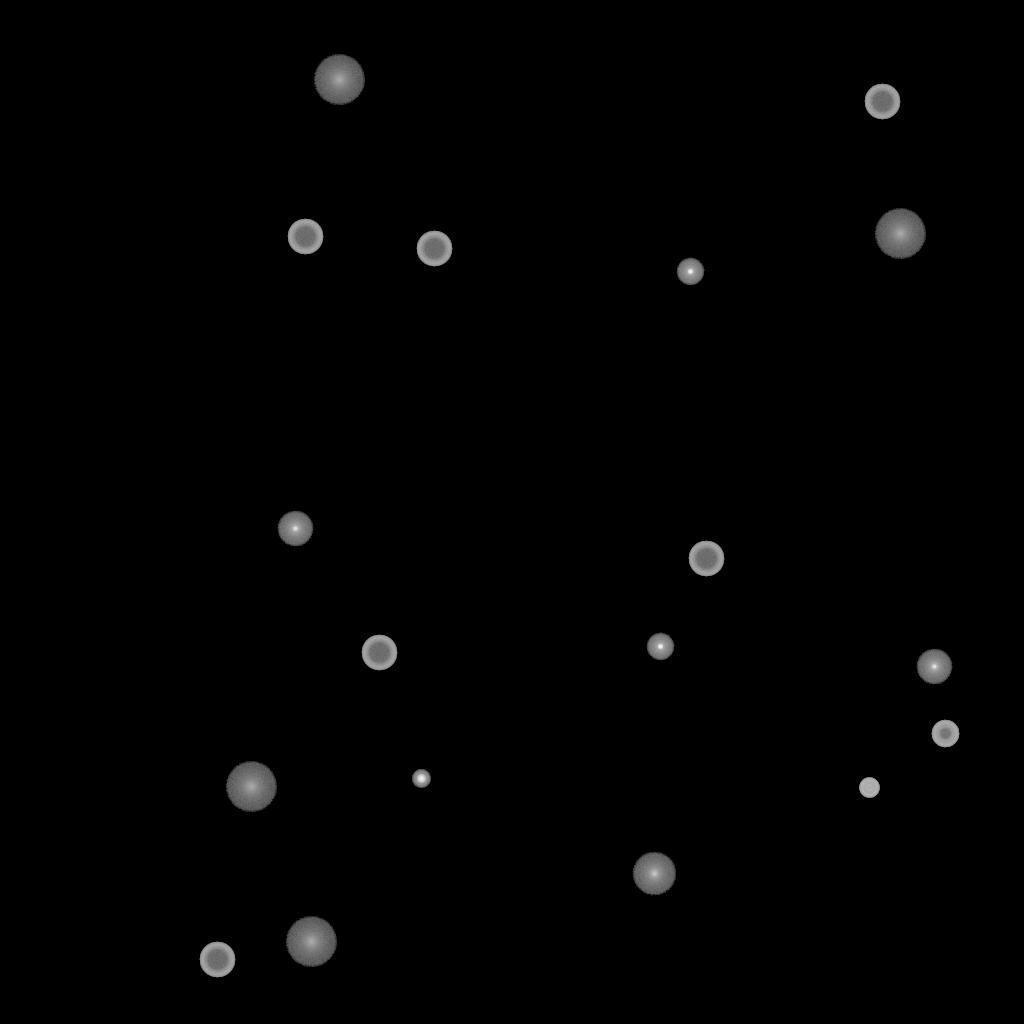depth:-10: (676, 258, 704, 286), (646, 633, 674, 661)
depth:-20: (412, 770, 430, 788)
depth:-40: (859, 778, 879, 798)
depth:-50: (931, 720, 959, 748)
depth:-60: (864, 84, 900, 120), (416, 231, 452, 267), (287, 219, 323, 255), (199, 942, 235, 978), (688, 541, 724, 577), (361, 635, 397, 671)
depth:0: (277, 511, 313, 547), (916, 649, 952, 685)
depth:10: (632, 852, 676, 896)
depth:20: (225, 762, 277, 812), (874, 209, 926, 259), (313, 55, 365, 105), (285, 917, 337, 967)
